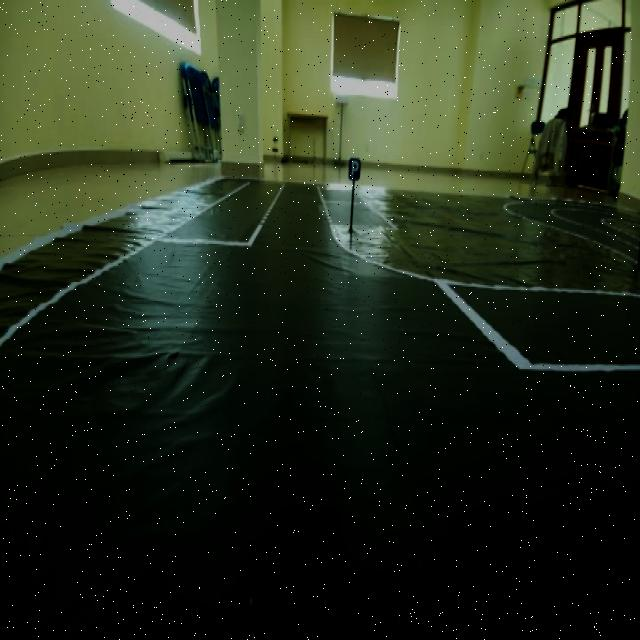parking: (344, 149, 365, 190)
